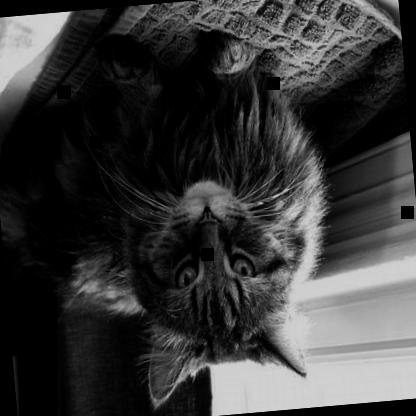cat: (0, 23, 342, 415)
